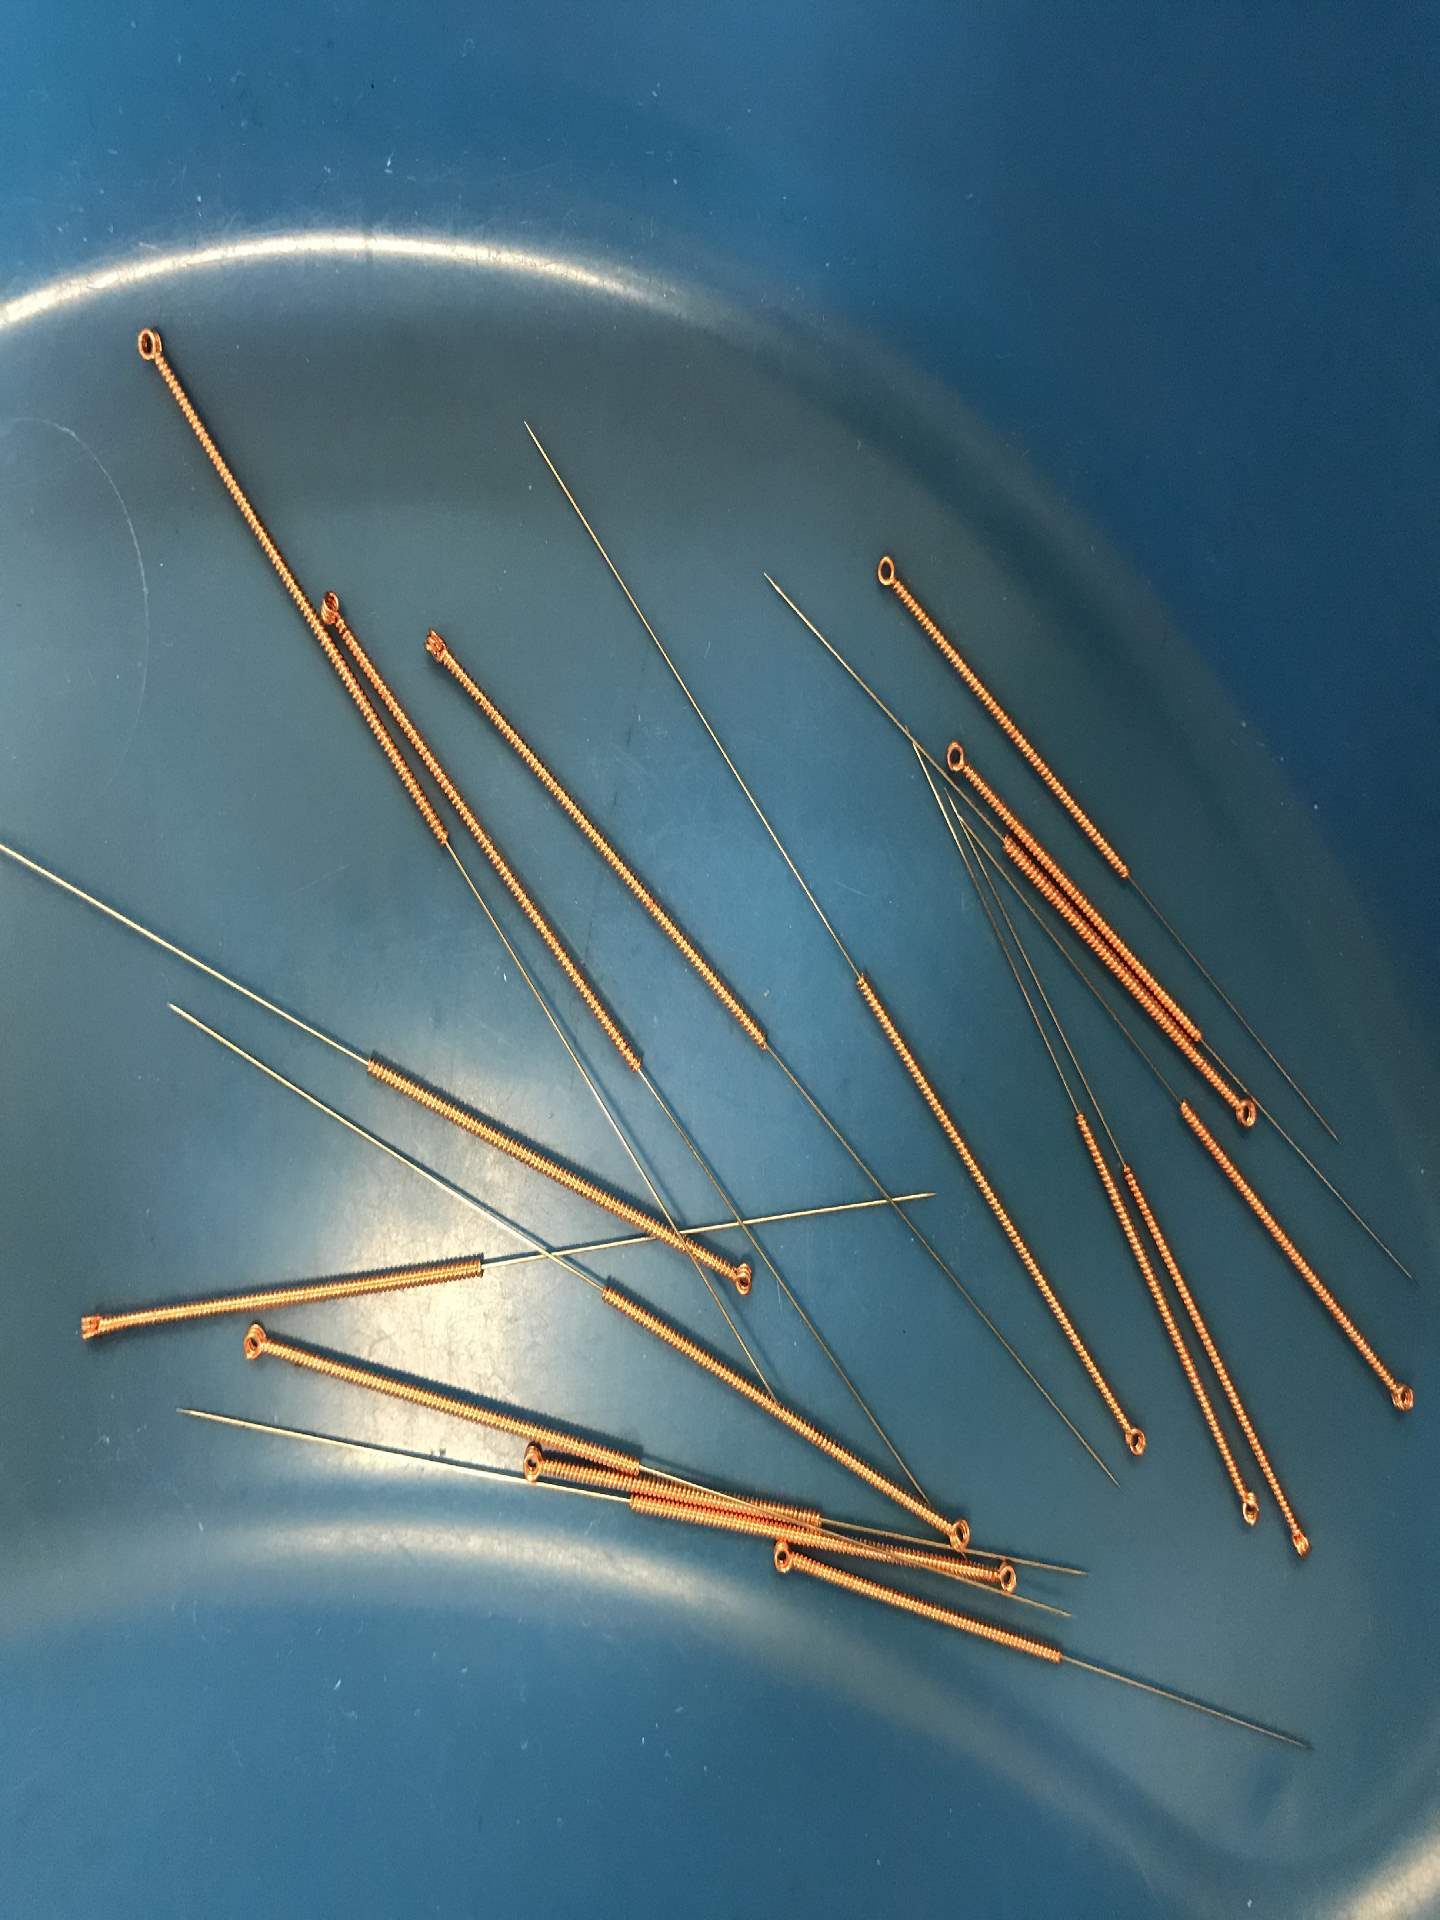needle: (1109, 1404, 1159, 1477), (123, 310, 174, 379), (227, 1317, 287, 1376), (64, 1297, 124, 1355), (1277, 1507, 1325, 1575), (502, 1439, 564, 1492), (410, 612, 461, 674), (1373, 1364, 1425, 1426), (933, 729, 985, 791), (1221, 1082, 1274, 1141), (861, 543, 914, 602), (929, 1503, 983, 1559), (715, 1247, 765, 1306), (979, 1550, 1030, 1604), (1228, 1482, 1271, 1538), (758, 1536, 803, 1584), (315, 578, 349, 630)
